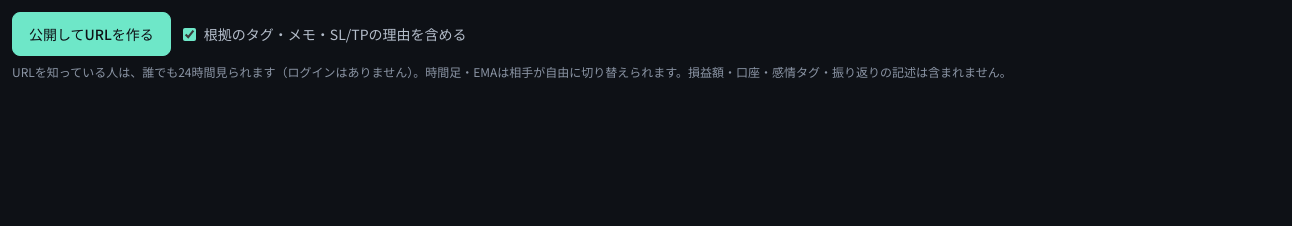
Test: 評価用ファイルの公開ボタン › 押すと公開し、URL・コピー・開く・期限を画面に出す
Click the button "公開してURLを作る". click: (91, 34)
box: x1=12 y1=12 x2=171 y2=56
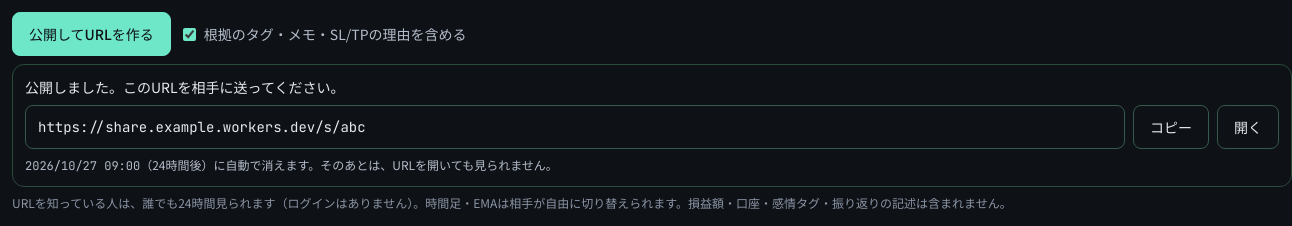
Expected: the message named "公開したURL" shows "24時間後", x1=140 y1=156 x2=558 y2=173
Expected: the field named "公開したURL" holds "https://share.example.workers.dev/s/abc", x1=25 y1=105 x2=1125 y2=149
Expected: the button "コピー" is shown, x1=1133 y1=105 x2=1209 y2=149
